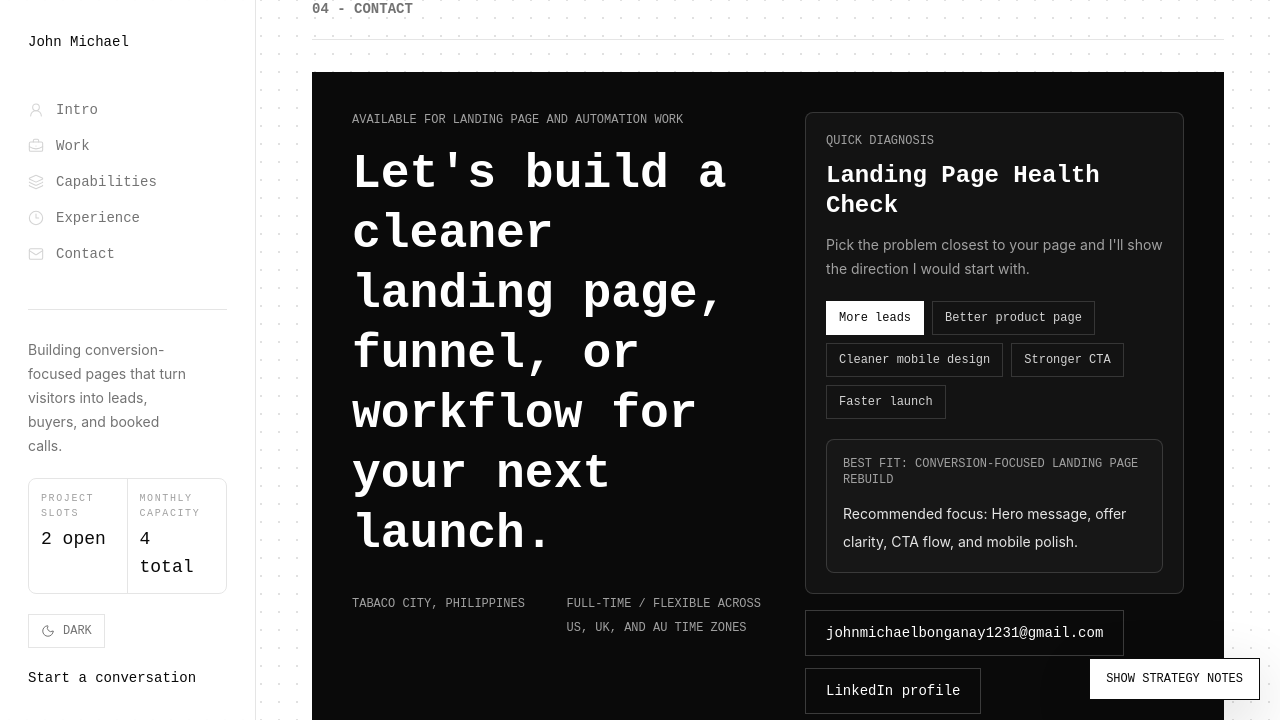
Scenario: Portfolio landing page › lets visitors run a compact landing page health check before contacting
This screenshot has width=1280, height=720.
(page scrolled)
Expected: the heading "Landing Page Health Check" is shown, [826, 162, 1100, 219]
Expected: the text "Best fit: Conversion-focused landing page rebuild" is shown, [843, 456, 1146, 488]
Step 1. Click the button "Stronger CTA" → (1068, 360), box [1011, 343, 1124, 377]
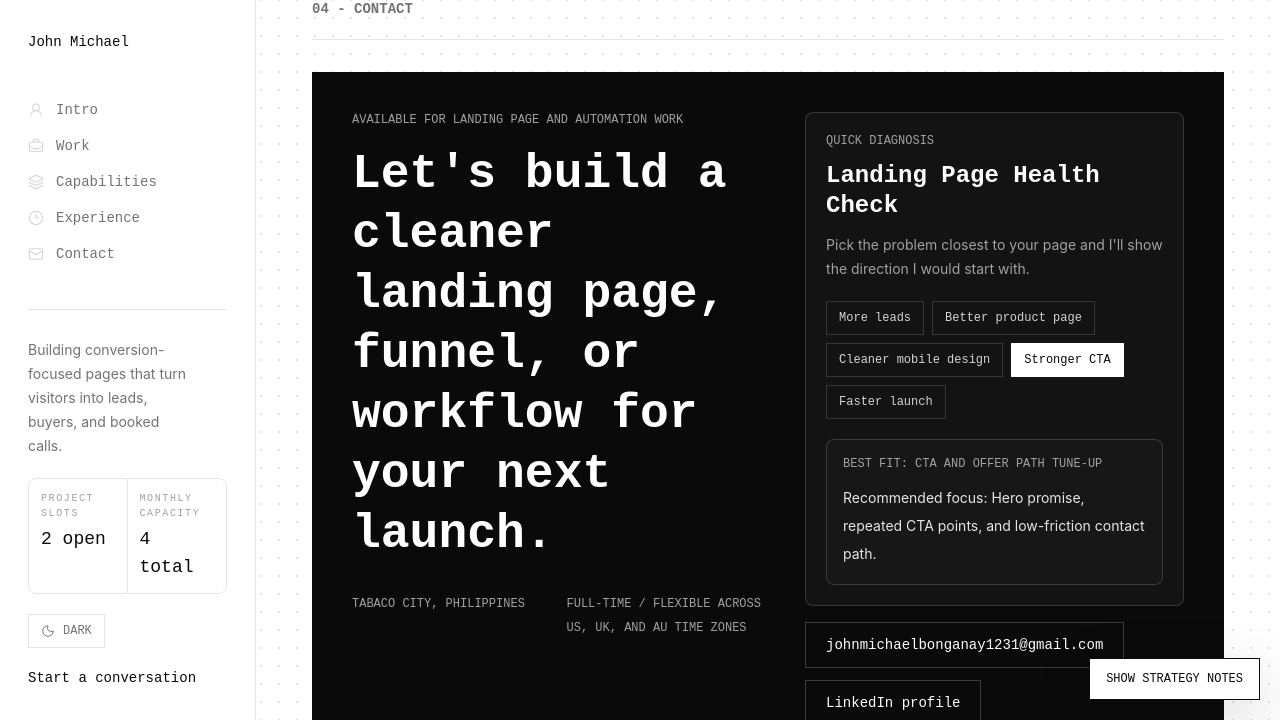
Expected: the text "Best fit: CTA and offer path tune-up" is shown, [843, 456, 1146, 472]
Expected: the text "hero promise, repeated CTA points, and low-friction contact path" is shown, [843, 489, 1144, 562]
